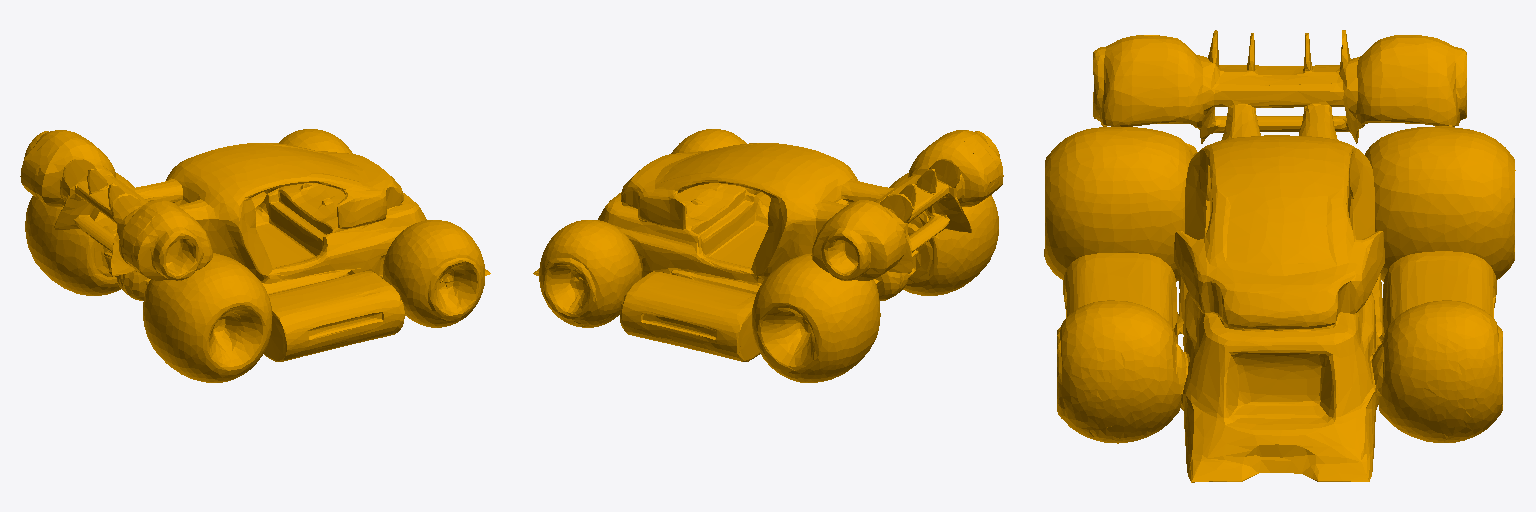
robot.urdf — sample:
<?xml version="1.0" ?>
<robot name="sample">
   <link name="sample">
      <visual>
         <origin xyz="0 0 0" rpy="1.5708 0.0 0.0"/>
         <geometry>
            <mesh filename="mesh/sample.obj" scale="1.0 1.0 1.0"/>
         </geometry>
      </visual>
      <collision>
         <origin xyz="0 0 0" rpy="1.5708 0.0 0.0"/>
         <geometry>
            <mesh filename="mesh/sample_collision.obj" scale="1.0 1.0 1.0"/>
         </geometry>
         <gazebo>
            <mu1>0.70</mu1>
            <mu2>0.55</mu2>
         </gazebo>
      </collision>
      <inertial>
         <mass value="1.0000"/>
         <origin xyz="0 0 0"/>
         <inertia ixx="1.0" ixy="0.0" ixz="0.0" iyy="1.0" iyz="0.0" izz="1.0"/>
      </inertial>
      <extra_info>
         <scale>0.636169</scale>
         <version>v0.1.7</version>
         <category>toy</category>
         <description>purple toy race car with large wheels and aerodynamic body</description>
         <min_height>0.25</min_height>
         <max_height>0.3</max_height>
         <real_height>0.275</real_height>
         <min_mass>0.8</min_mass>
         <max_mass>1.2</max_mass>
         <color>purple</color>
         <rgba>[0.6, 0.0, 0.8, 1.0]</rgba>
         <generate_time>20260525112227</generate_time>
         <gs_model>mesh/sample_gs.ply</gs_model>
      </extra_info>
   </link>
   <custom_data>
      <quality>
         <MeshGeoChecker>YES</MeshGeoChecker>
         <ImageSegChecker>NO, object is not fully isolated; background artifacts remain on the right side.</ImageSegChecker>
         <ImageAestheticChecker>4.2737942934036255</ImageAestheticChecker>
         <overall>NO</overall>
      </quality>
   </custom_data>
</robot>

--- What the picture shows (computed from the rendered views, not written in the file) ---
The picture shows the robot from 3 angles, left to right: view 1: azimuth 30°, elevation 25°; view 2: azimuth 150°, elevation 25°; view 3: azimuth 270°, elevation 25°; orthographic projection.
Model sample with 1 links and 0 joints (none), rooted at sample, posed every joint at zero.
Links seen in each view (by area): view 1: sample; view 2: sample; view 3: sample.
Link boxes in pixels (bbox=[...]): sample: bbox=[20, 129, 490, 382]; sample: bbox=[533, 129, 1003, 382]; sample: bbox=[1044, 30, 1515, 482].
Bounding box of the posed robot: 0.6362 × 0.508 × 0.275 m (x, y, z).
1 mesh visuals loaded from 1 distinct referenced files (1 OBJ).
